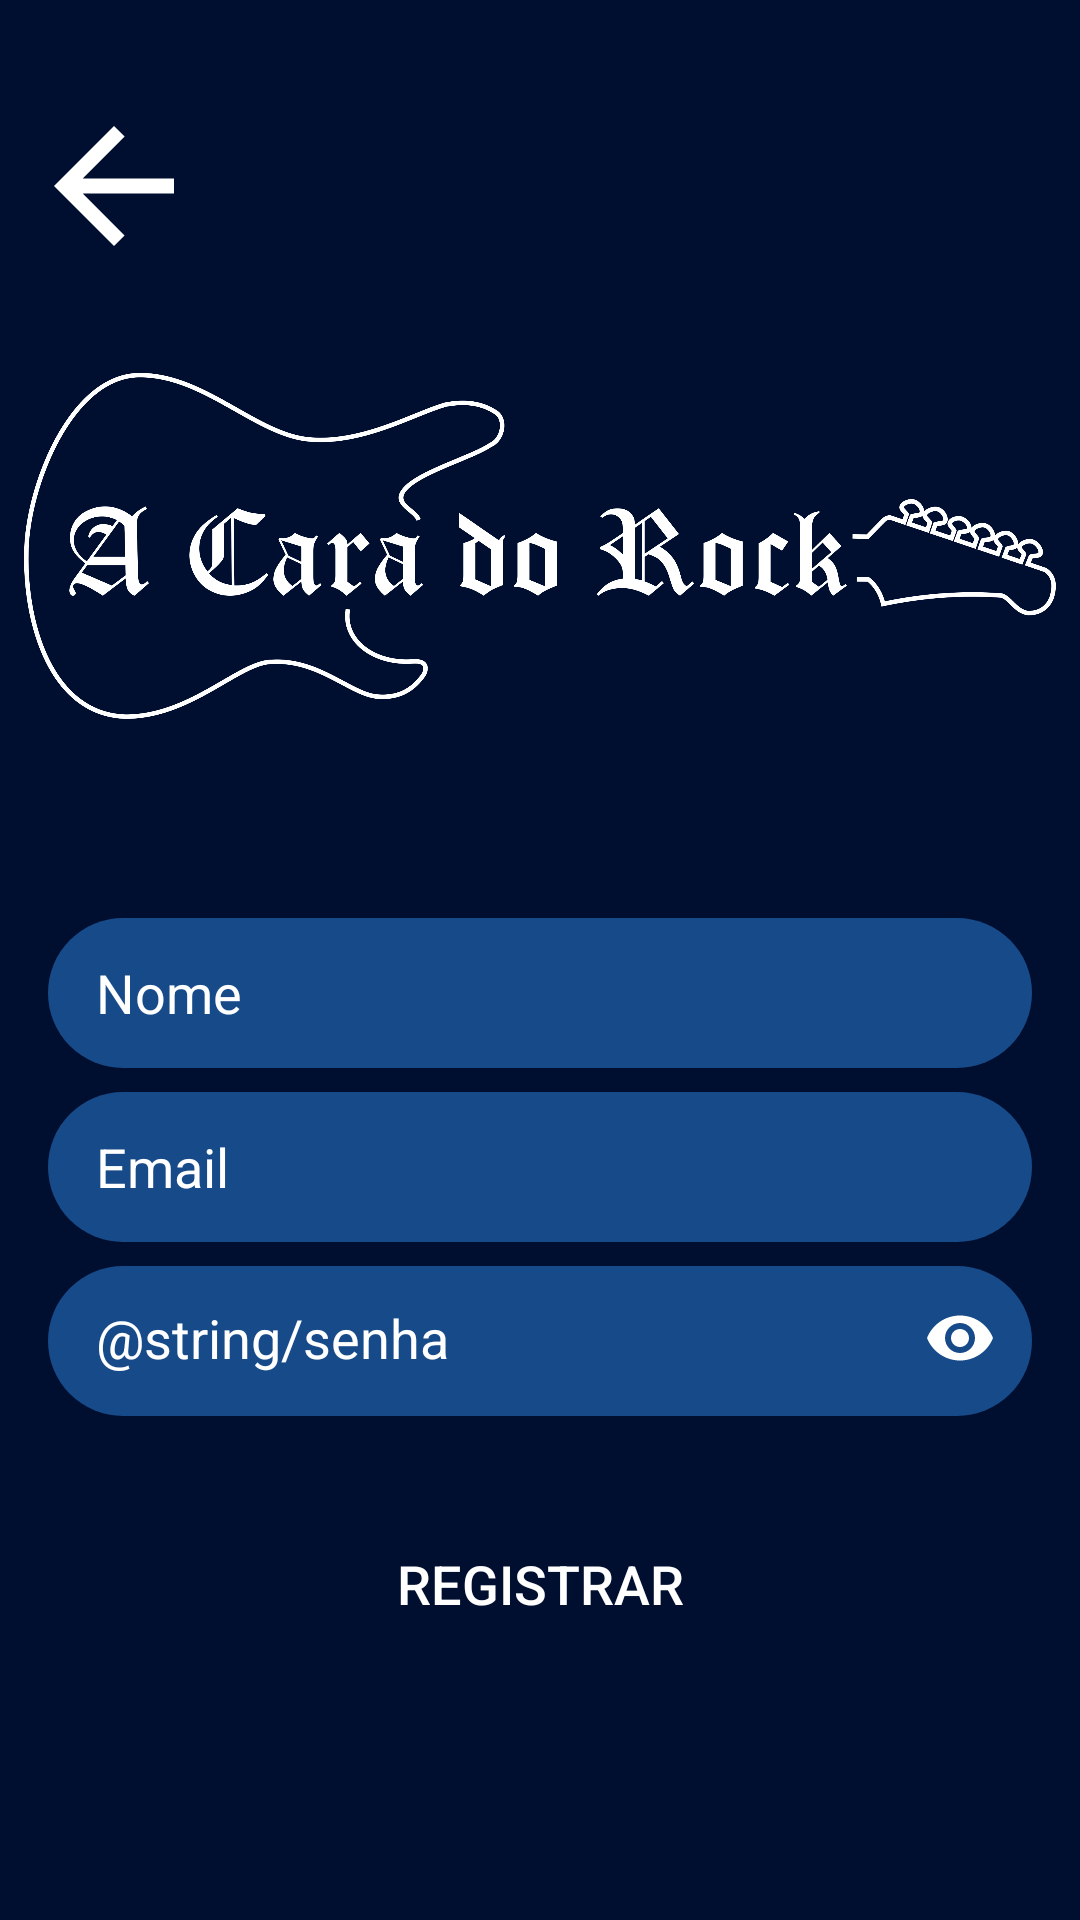

Icons on this 1080w x 1920h Android screen, each with its box as rect(x1, y1, x2, y2):
arrow back: rect(54, 126, 174, 246)
